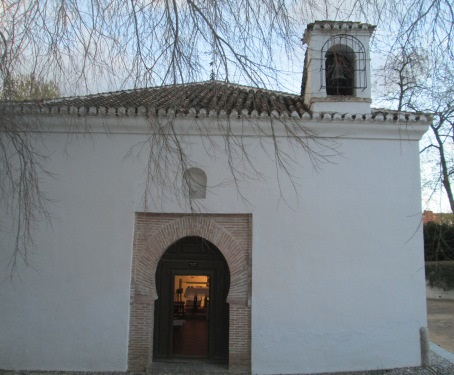arco-herradura: (147, 230, 235, 313)
